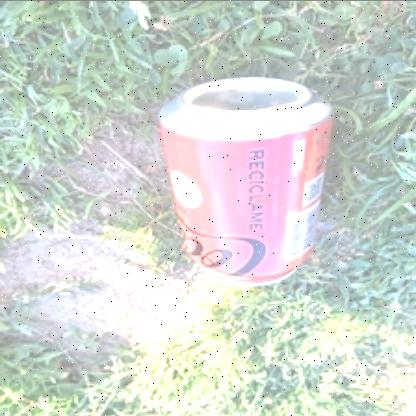Can: (158, 76, 332, 286)
